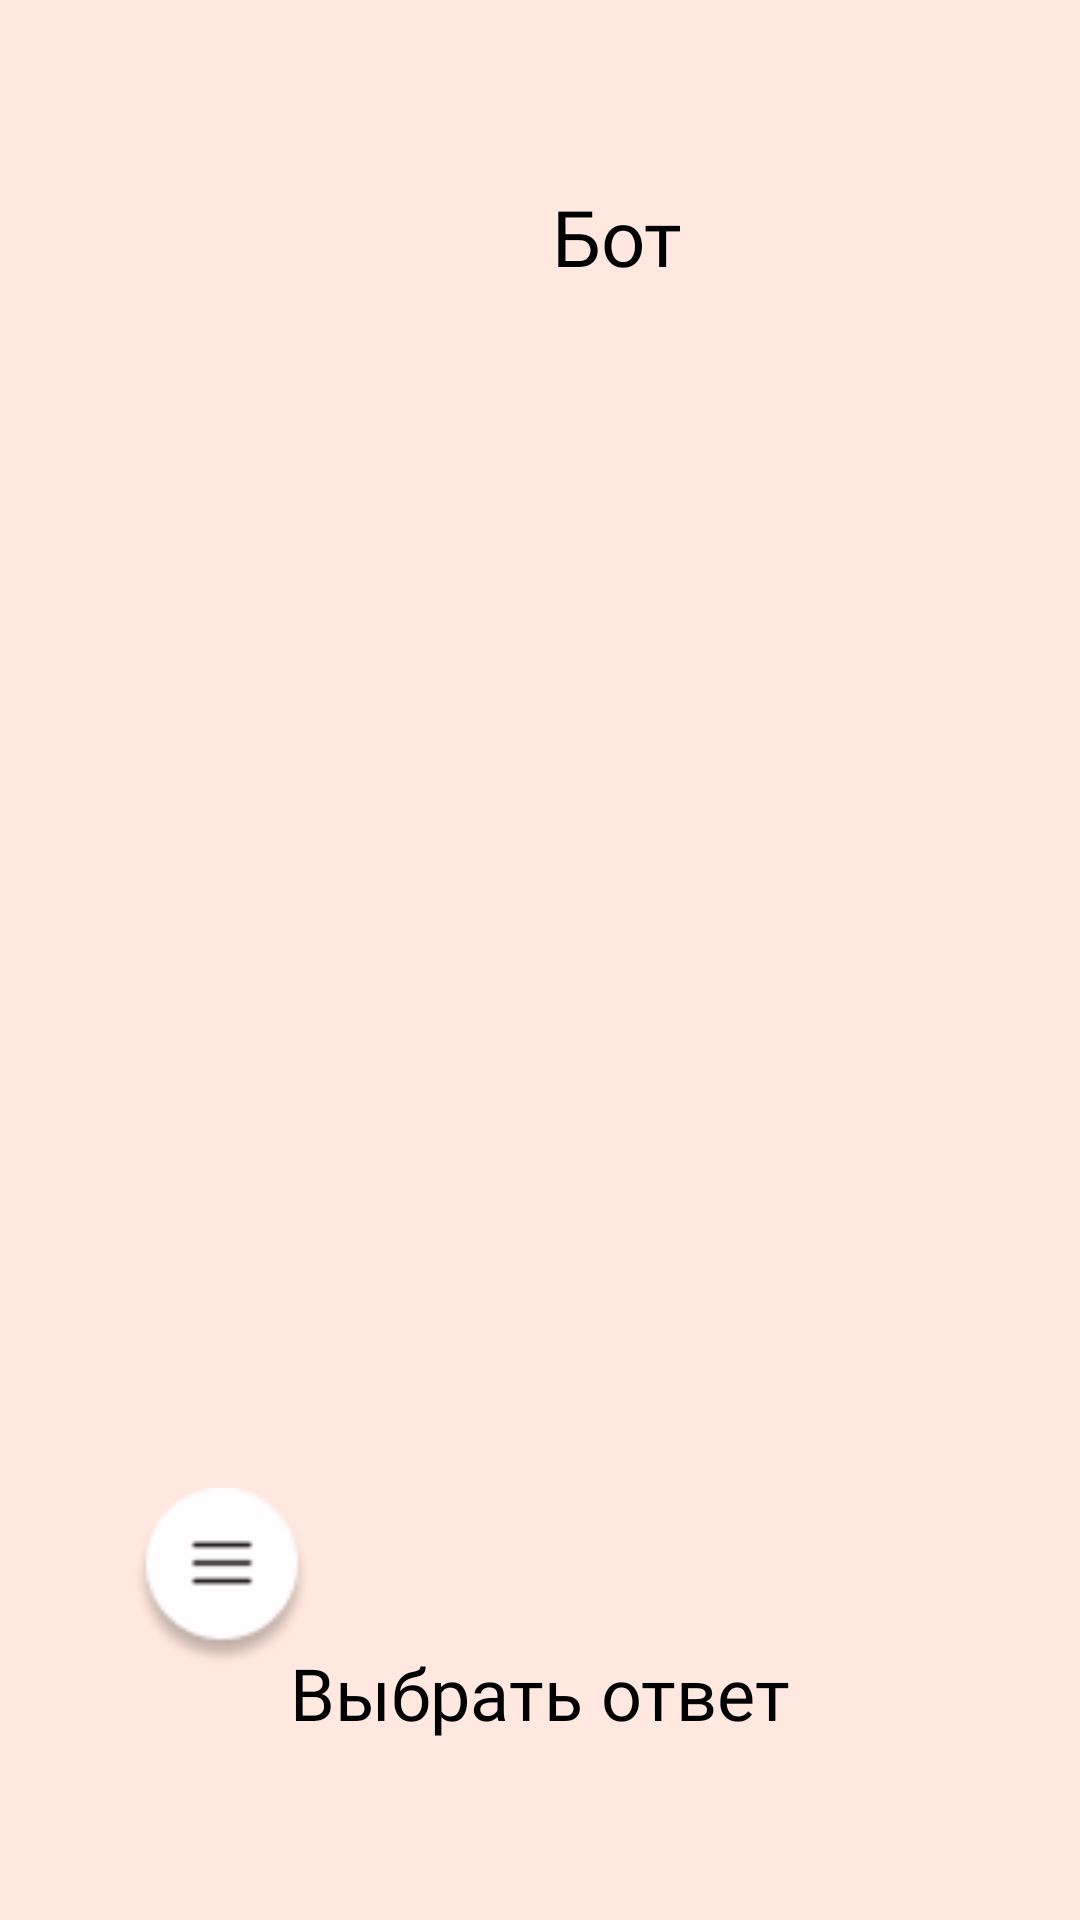

Icon bounding boxes for this 1080x1920 phone screenshot, format {"left": x1, "top": y1, "right": x2, "bottom": y2}:
menu: {"left": 191, "top": 1540, "right": 253, "bottom": 1586}
